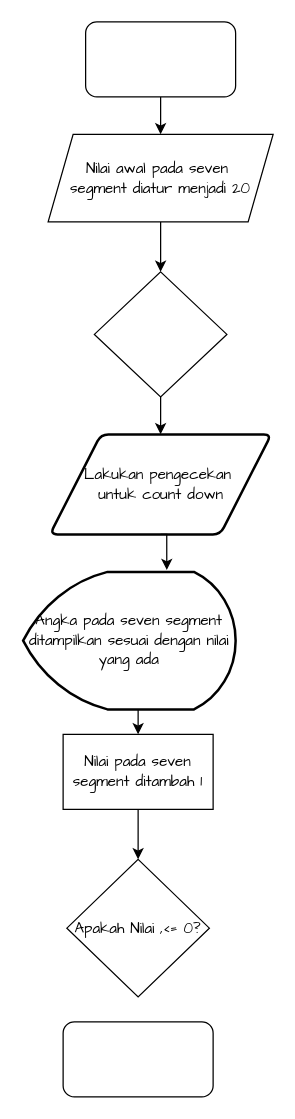
This 295x1119 diagram has some shape labels left out. The shapes that lost their labels are listed below. From the top down, each one's centre as x and y in pixels, then its label:
point (160, 59): Start
point (160, 334): Tekan tombol Ya / Tidak
point (137, 1059): End
